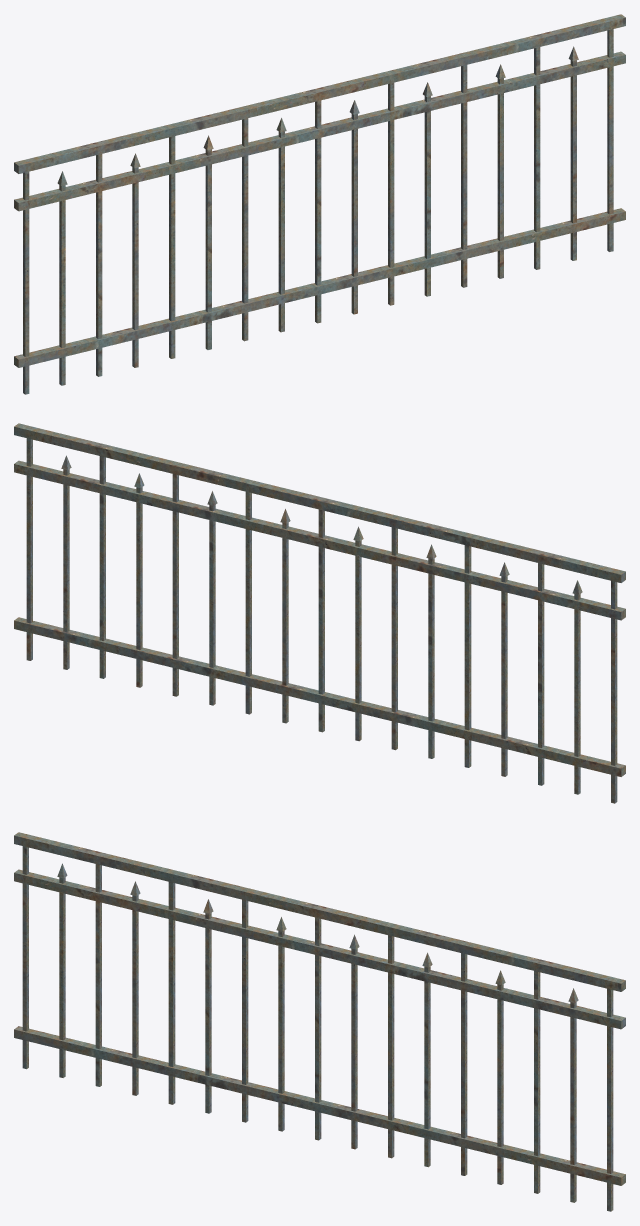
The model's file is fence18.FBX.
3 views of the same model, one above another, from view 1: azimuth 30°, elevation 25°; view 2: azimuth 150°, elevation 25°; view 3: azimuth 330°, elevation 25° (orthographic).
Visible parts, largest first — view 1: metal_fence_large_mid_rail_spear; view 2: metal_fence_large_mid_rail_spear; view 3: metal_fence_large_mid_rail_spear.
Part boxes in pixels (x1,y1,x2,y2): metal_fence_large_mid_rail_spear: (14,14,625,394); metal_fence_large_mid_rail_spear: (14,423,625,803); metal_fence_large_mid_rail_spear: (14,832,625,1211).
Size of the model in its own units: 476 by 173 by 6.31.
